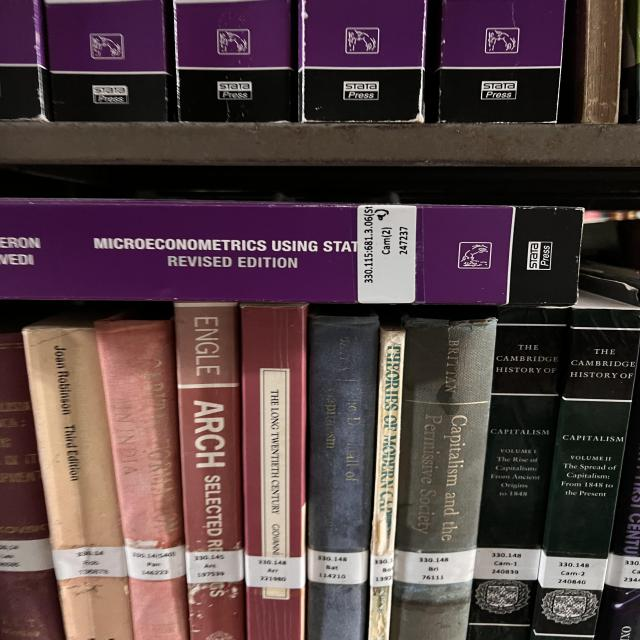Book: (0, 199, 582, 305), (532, 291, 640, 640), (23, 312, 132, 640), (390, 318, 497, 640), (468, 306, 568, 640), (95, 316, 188, 640), (173, 302, 245, 640), (307, 314, 380, 640), (240, 304, 307, 640), (0, 331, 65, 640), (300, 0, 427, 122), (438, 0, 565, 122), (45, 0, 172, 121), (173, 0, 293, 121), (595, 365, 640, 640), (368, 326, 405, 640)
Label: (357, 205, 417, 304), (393, 550, 475, 585), (538, 551, 607, 590), (52, 546, 127, 580), (308, 549, 368, 585), (473, 548, 540, 580), (125, 545, 185, 580), (245, 555, 305, 589), (185, 550, 243, 584), (0, 539, 53, 571), (605, 554, 640, 589), (370, 554, 393, 588)
